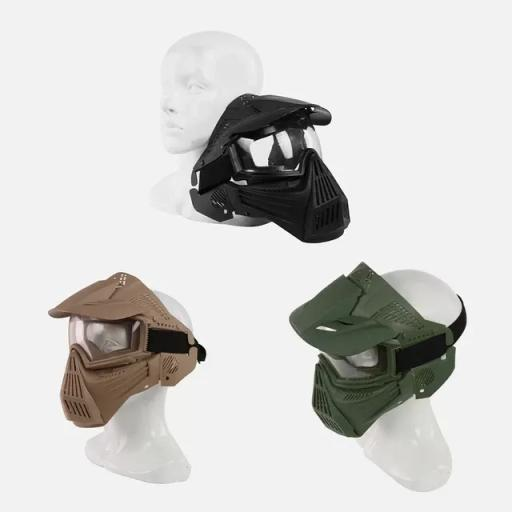mask: (183, 82, 370, 242), (266, 268, 438, 441), (25, 277, 199, 427)
